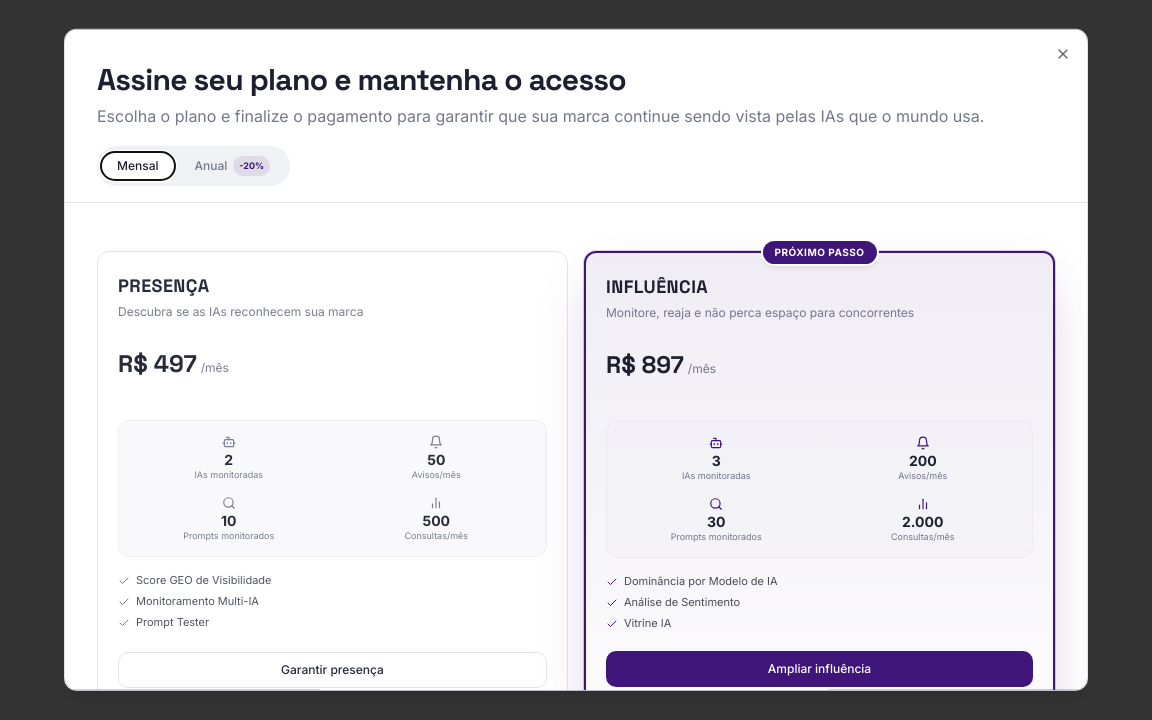
Test case: aviso fixo de multa pendente (sem toast) › UpgradeModal: aviso dentro do modal, sem fechar
Click the button "Ampliar influência": (820, 669) left=606, top=651, right=1033, bottom=687
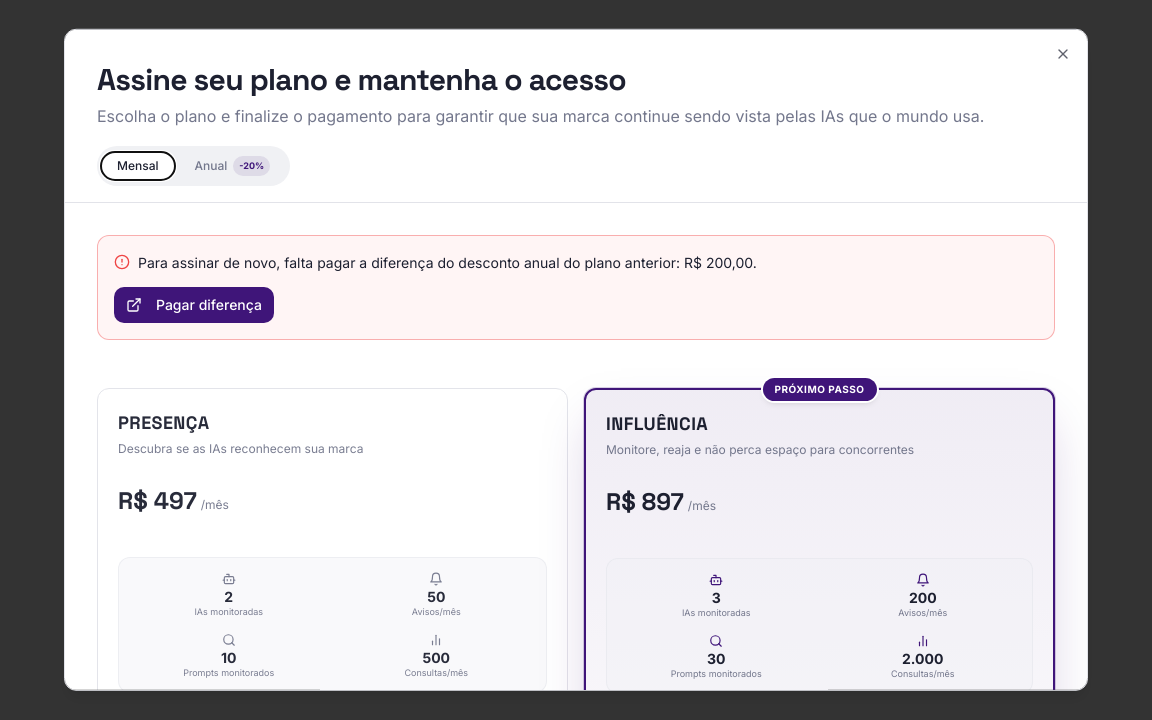
Check: the message with test id "penalty-blocked-notice" shows "falta pagar a diferença do desconto anual do plano anterior: R$ 200,00", box left=138, top=254, right=757, bottom=271
Check: the button "Pagar diferença" is shown, box left=114, top=287, right=274, bottom=323
